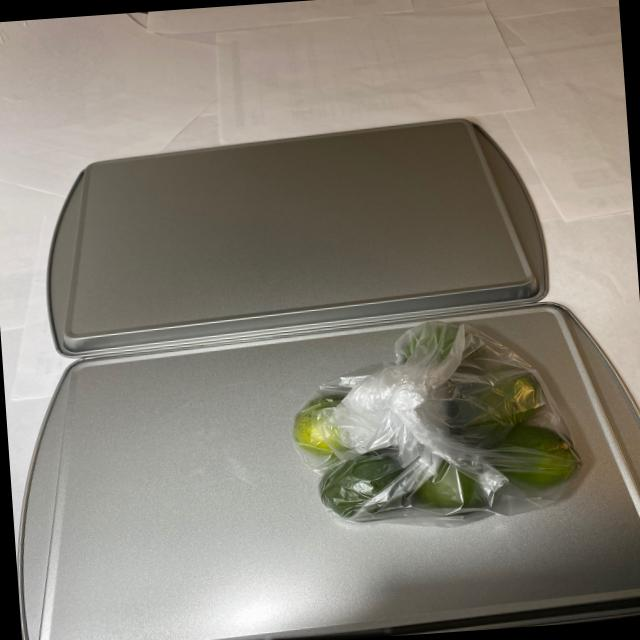lemon: (277, 312, 589, 526)
